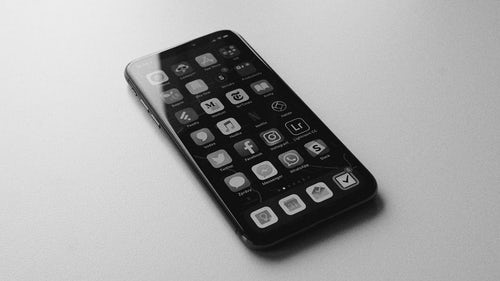phone: (124, 28, 384, 250)
